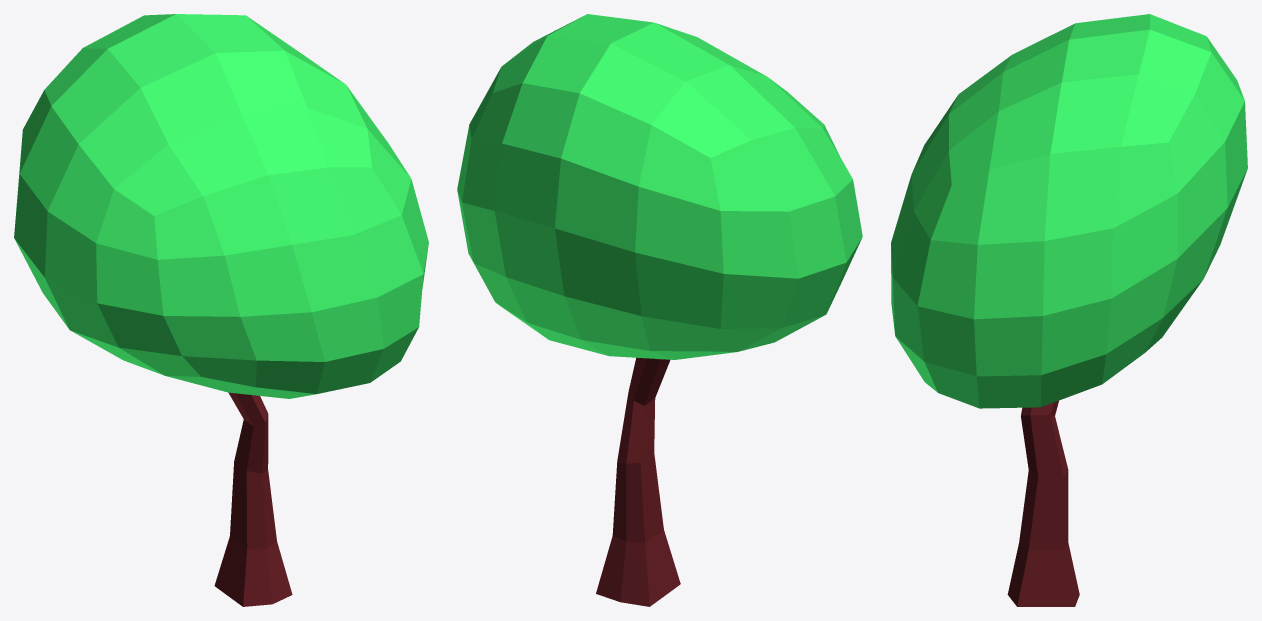
The model's file is Arvore_2.fbx.
3 renders of one model, left to right at view 1: azimuth 30°, elevation 25°; view 2: azimuth 150°, elevation 25°; view 3: azimuth 270°, elevation 25°, orthographic. The views are drawn at different scales.
Visible parts, largest first — view 1: Arvore; view 2: Arvore; view 3: Arvore.
Part boxes in pixels (left/top/right/bottom): Arvore: left=14, top=14, right=428, bottom=606; Arvore: left=457, top=14, right=862, bottom=606; Arvore: left=891, top=14, right=1247, bottom=606.
Bounding box in the file's own units: 5.49 × 4.81 × 8.21.
